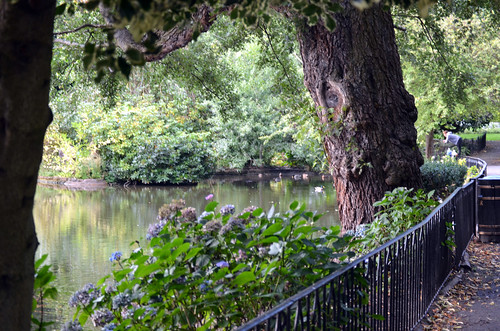river: (36, 176, 324, 295)
tree: (285, 1, 452, 229)
vegetation: (1, 1, 305, 165), (74, 205, 362, 331), (404, 1, 500, 127)
